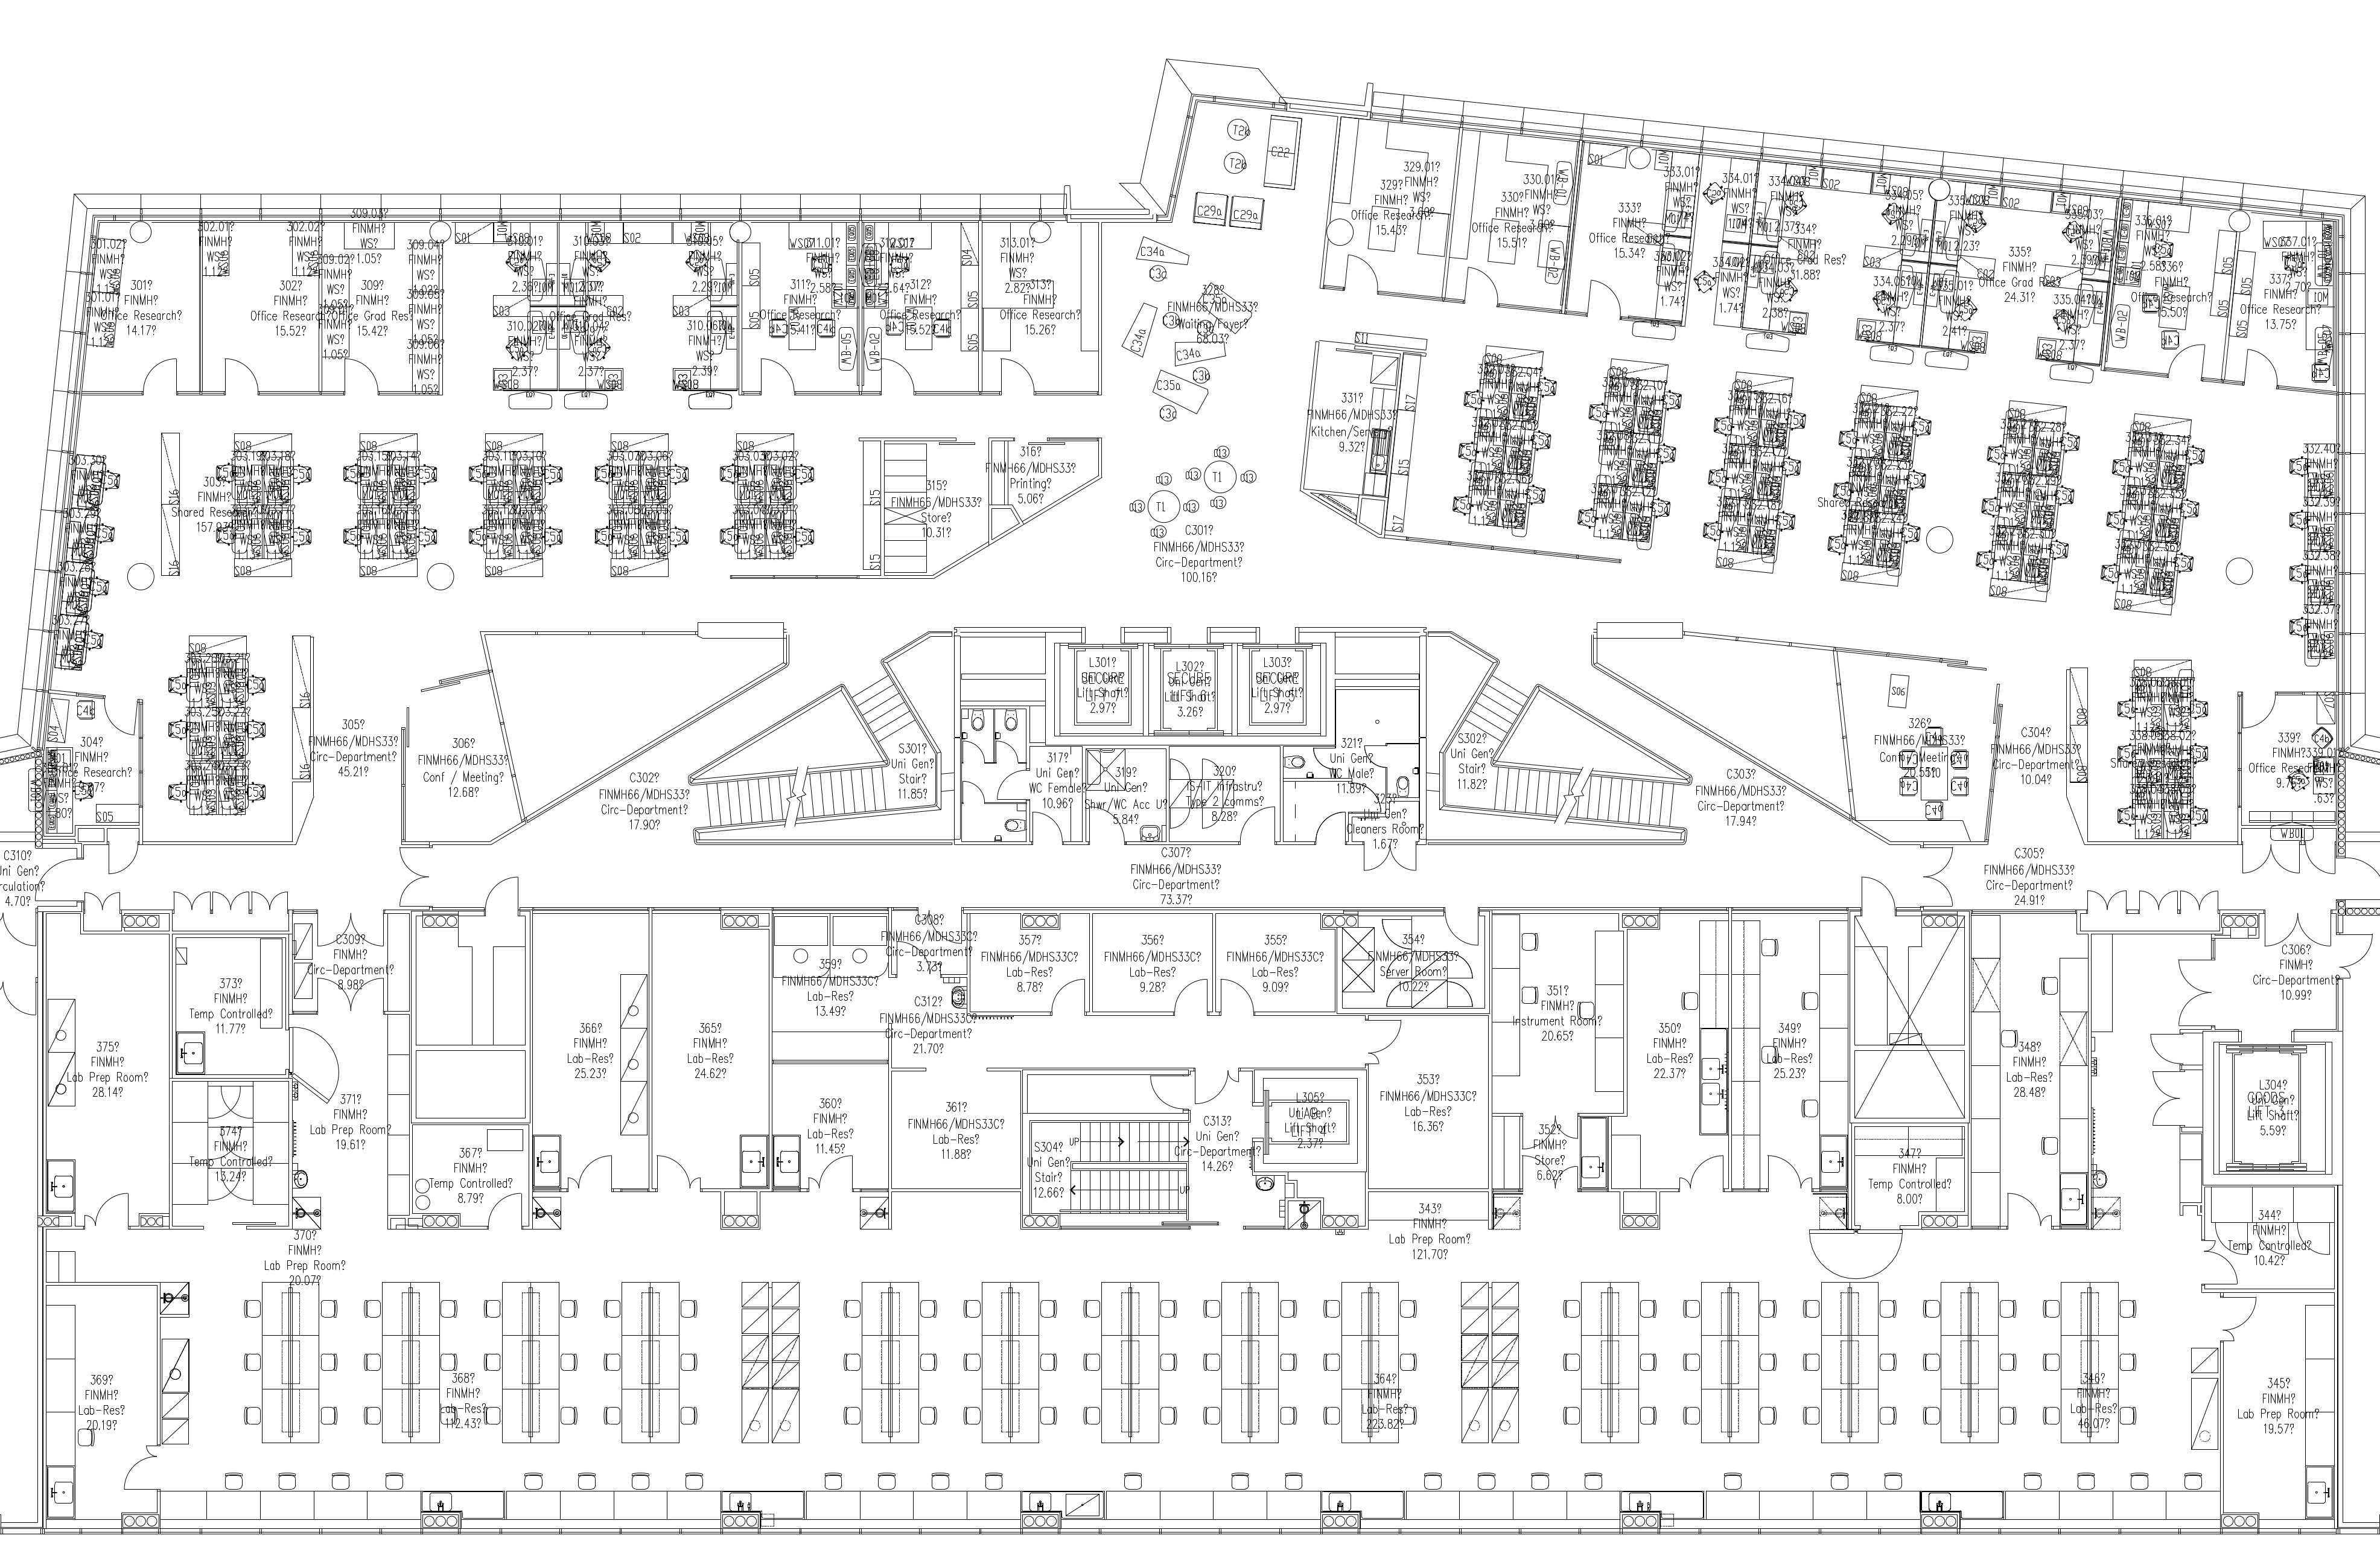room: (161, 1231, 2224, 1534), (123, 417, 862, 599), (1102, 224, 1301, 606), (1742, 154, 1938, 373), (1561, 135, 1759, 345), (43, 910, 168, 1229), (1920, 175, 2102, 385), (142, 601, 293, 840), (1971, 915, 2085, 1229), (1834, 647, 2009, 849), (560, 219, 739, 415), (1610, 913, 1728, 1187), (652, 915, 768, 1192), (1733, 915, 1849, 1192), (534, 913, 649, 1192), (2089, 644, 2238, 842), (1313, 115, 1462, 309), (45, 1286, 158, 1533), (1440, 127, 1586, 316), (2222, 1293, 2335, 1534), (1492, 913, 1624, 1113), (1494, 913, 1624, 1114), (291, 1014, 409, 1229), (2239, 439, 2340, 689), (2099, 196, 2233, 384), (441, 217, 560, 415), (2220, 205, 2342, 397), (862, 219, 978, 415), (742, 220, 859, 415), (984, 220, 1098, 417), (199, 213, 321, 396), (319, 217, 442, 396), (82, 215, 203, 396), (1370, 1015, 1488, 1187), (404, 687, 522, 840), (172, 1081, 288, 1231), (772, 913, 888, 1061), (1301, 332, 1398, 500), (961, 708, 1082, 842), (175, 937, 290, 1074), (2213, 1041, 2331, 1173), (1851, 908, 1964, 1045), (892, 1071, 1020, 1189), (883, 441, 989, 578), (772, 1064, 888, 1187), (2215, 913, 2335, 1029), (416, 916, 524, 1045), (43, 691, 139, 833), (2205, 1185, 2337, 1288), (1343, 916, 1485, 1007), (413, 1125, 529, 1229), (970, 913, 1089, 1012), (1216, 913, 1336, 1012), (2245, 694, 2337, 821), (1093, 913, 1213, 1010), (1854, 1126, 1967, 1229), (992, 441, 1098, 538), (1171, 746, 1278, 840), (1492, 1116, 1610, 1194), (1263, 1078, 1358, 1163), (1239, 647, 1325, 738), (1084, 748, 1166, 842), (1060, 646, 1143, 734), (1148, 647, 1232, 734), (1282, 748, 1386, 812), (1029, 1076, 1188, 1114), (1353, 800, 1421, 877), (0, 842, 78, 906), (892, 911, 968, 974)
